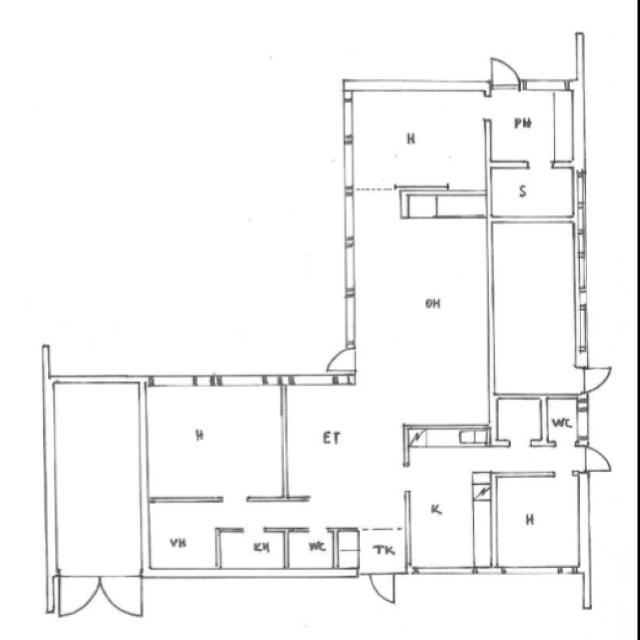door: (94, 570, 147, 622), (50, 572, 106, 619), (484, 54, 524, 94), (444, 156, 486, 192), (321, 344, 360, 376), (366, 570, 398, 607), (578, 364, 613, 393), (581, 445, 613, 474)
window: (496, 561, 573, 581), (339, 287, 360, 349), (210, 371, 270, 391), (411, 563, 476, 580), (148, 372, 208, 390), (496, 213, 568, 228), (520, 76, 571, 94), (289, 372, 342, 389), (570, 168, 589, 212), (339, 141, 356, 190), (338, 96, 356, 142)
zone: (348, 191, 491, 423), (283, 378, 404, 528), (49, 380, 143, 572), (144, 382, 285, 498), (490, 217, 581, 396), (344, 88, 490, 191), (406, 430, 491, 572), (492, 474, 580, 570), (486, 87, 576, 165), (148, 500, 218, 574), (490, 164, 577, 220), (216, 529, 288, 572), (286, 528, 346, 572), (494, 396, 542, 447), (357, 526, 406, 574), (544, 396, 588, 446)
